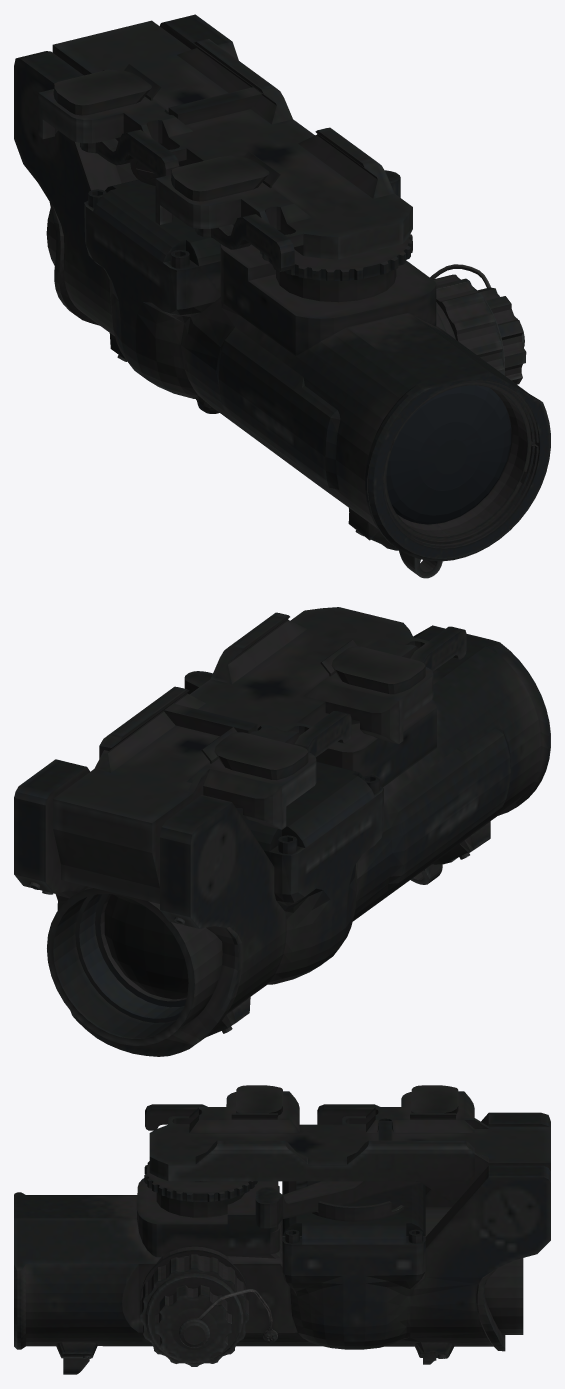
The picture shows the model from 3 angles, top to bottom: view 1: azimuth 30°, elevation 25°; view 2: azimuth 150°, elevation 25°; view 3: azimuth 270°, elevation 25°; orthographic projection. The views are drawn at different scales.
Parts seen in each view (by area): view 1: TW_57ac965c24597706be5f975c_mode1_PZ_Import; view 2: TW_57ac965c24597706be5f975c_mode1_PZ_Import; view 3: TW_57ac965c24597706be5f975c_mode1_PZ_Import.
Boxes of the visible parts, x1,y1,x2,y2 form: TW_57ac965c24597706be5f975c_mode1_PZ_Import: (14,14,550,578); TW_57ac965c24597706be5f975c_mode1_PZ_Import: (14,607,550,1056); TW_57ac965c24597706be5f975c_mode1_PZ_Import: (14,1085,550,1374).
Size of the model in its own units: 0.0417 by 0.0874 by 0.0443.
1 material, 1 textured.
